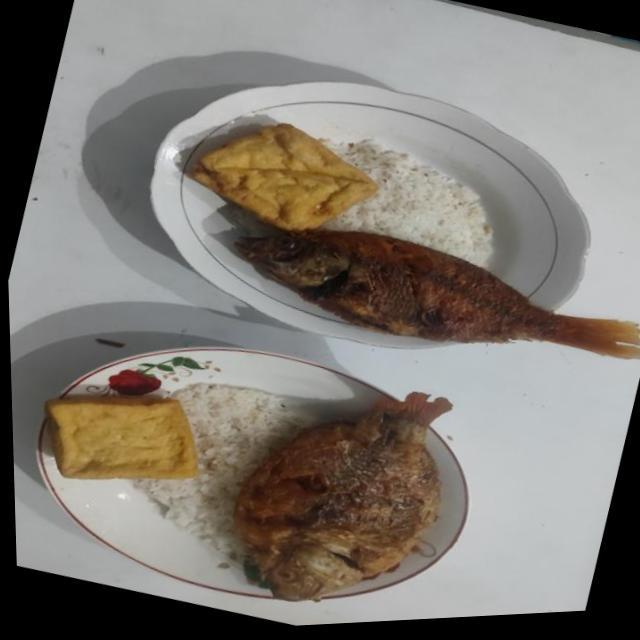ikan_mujair: (235, 228, 640, 358), (233, 392, 451, 600)
nasi_putih: (132, 382, 316, 562), (324, 138, 492, 268)
tahu_goreng: (192, 123, 378, 230), (44, 396, 198, 478)
